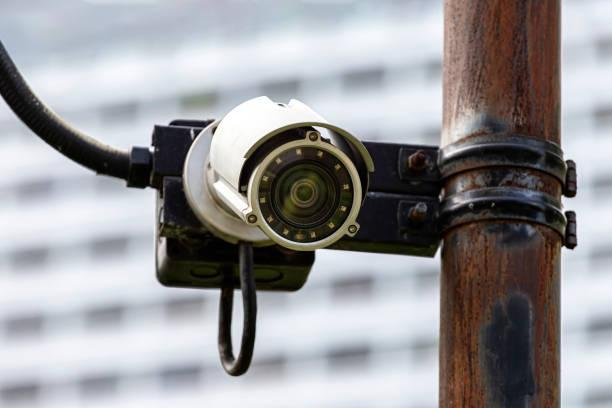camera: (179, 71, 387, 277)
